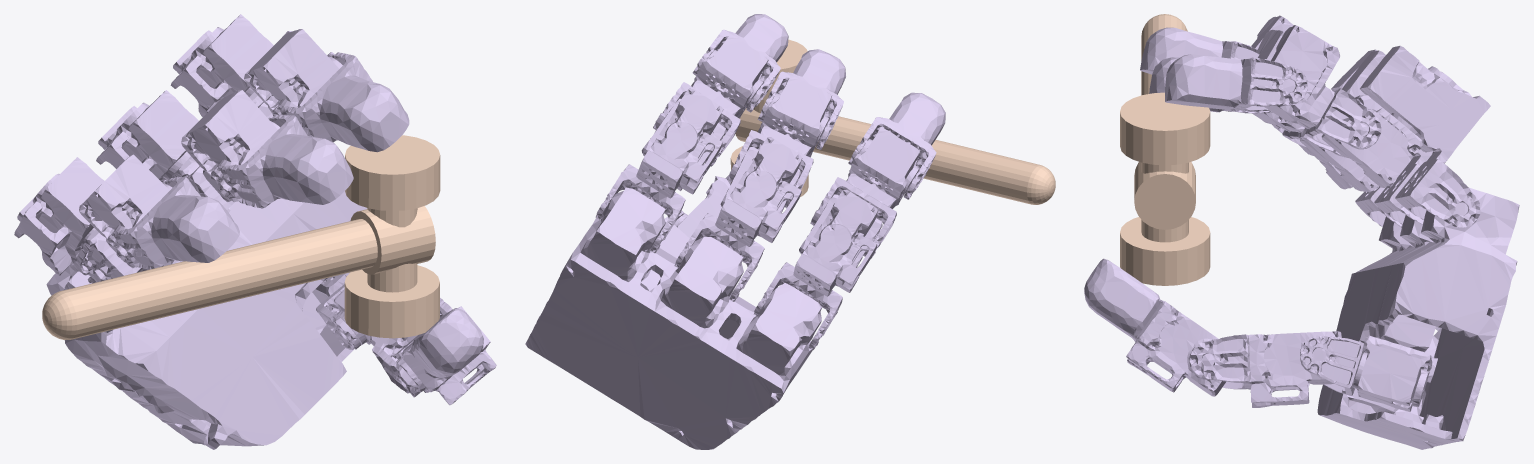
The model's file is a86fc09b7d6cba-closed.glb.
The picture shows the model from 3 angles, left to right: view 1: azimuth 30°, elevation 25°; view 2: azimuth 150°, elevation 25°; view 3: azimuth 270°, elevation 25°; orthographic projection. The views are drawn at different scales.
Parts seen in each view (by area): view 1: LEAP_hand, world; view 2: LEAP_hand, world; view 3: LEAP_hand, world.
Part boxes in pixels (left/top/right/bottom): LEAP_hand: left=14, top=14, right=496, bottom=449; world: left=42, top=135, right=440, bottom=339; LEAP_hand: left=525, top=14, right=945, bottom=449; world: left=730, top=39, right=1055, bottom=204; LEAP_hand: left=1084, top=15, right=1519, bottom=449; world: left=1120, top=14, right=1210, bottom=285.
Bounding box in the file's own units: 0.2257 × 0.2009 × 0.183.
